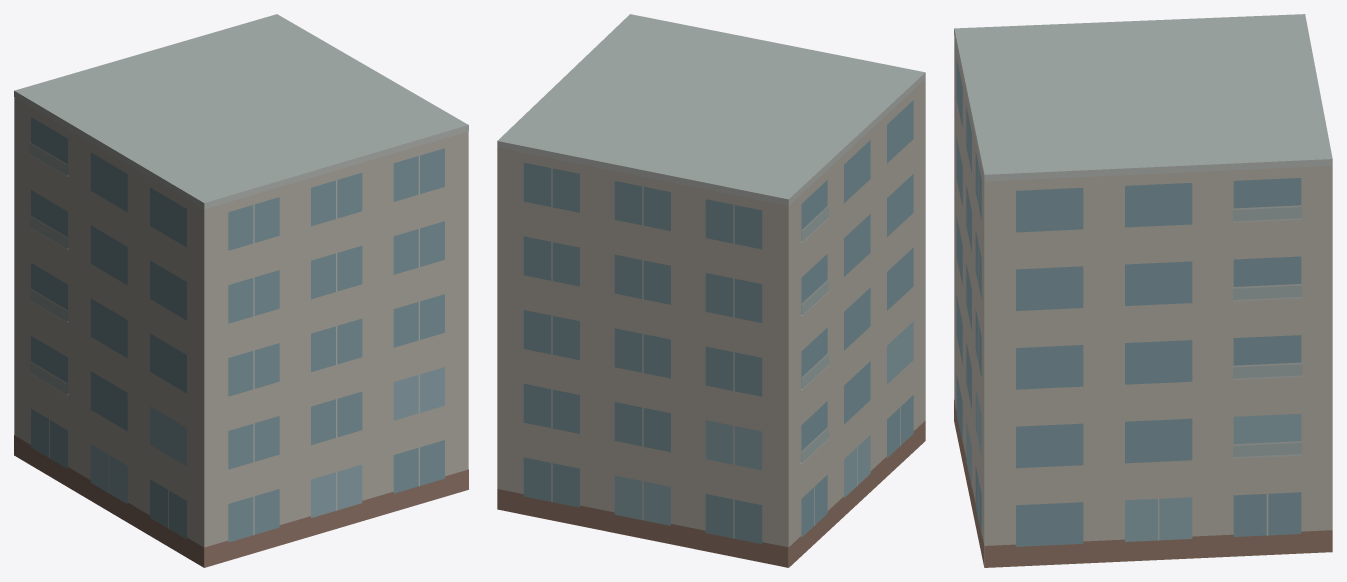
The model's file is survey-upis-33037890.glb.
3 renders of one model, left to right at view 1: azimuth 30°, elevation 25°; view 2: azimuth 150°, elevation 25°; view 3: azimuth 270°, elevation 25°, orthographic. The views are drawn at different scales.
Parts seen in each view (by area): view 1: survey-upis-33037890.tmp; view 2: survey-upis-33037890.tmp; view 3: survey-upis-33037890.tmp.
Boxes of the visible parts, box(x1,y1,x2,y2) form: survey-upis-33037890.tmp: box(14, 14, 468, 567); survey-upis-33037890.tmp: box(497, 14, 925, 567); survey-upis-33037890.tmp: box(954, 14, 1332, 567).
Size of the model in its own units: 12.38 by 14.1 by 12.32.
